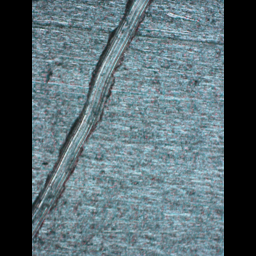d: (32, 0, 157, 242)
